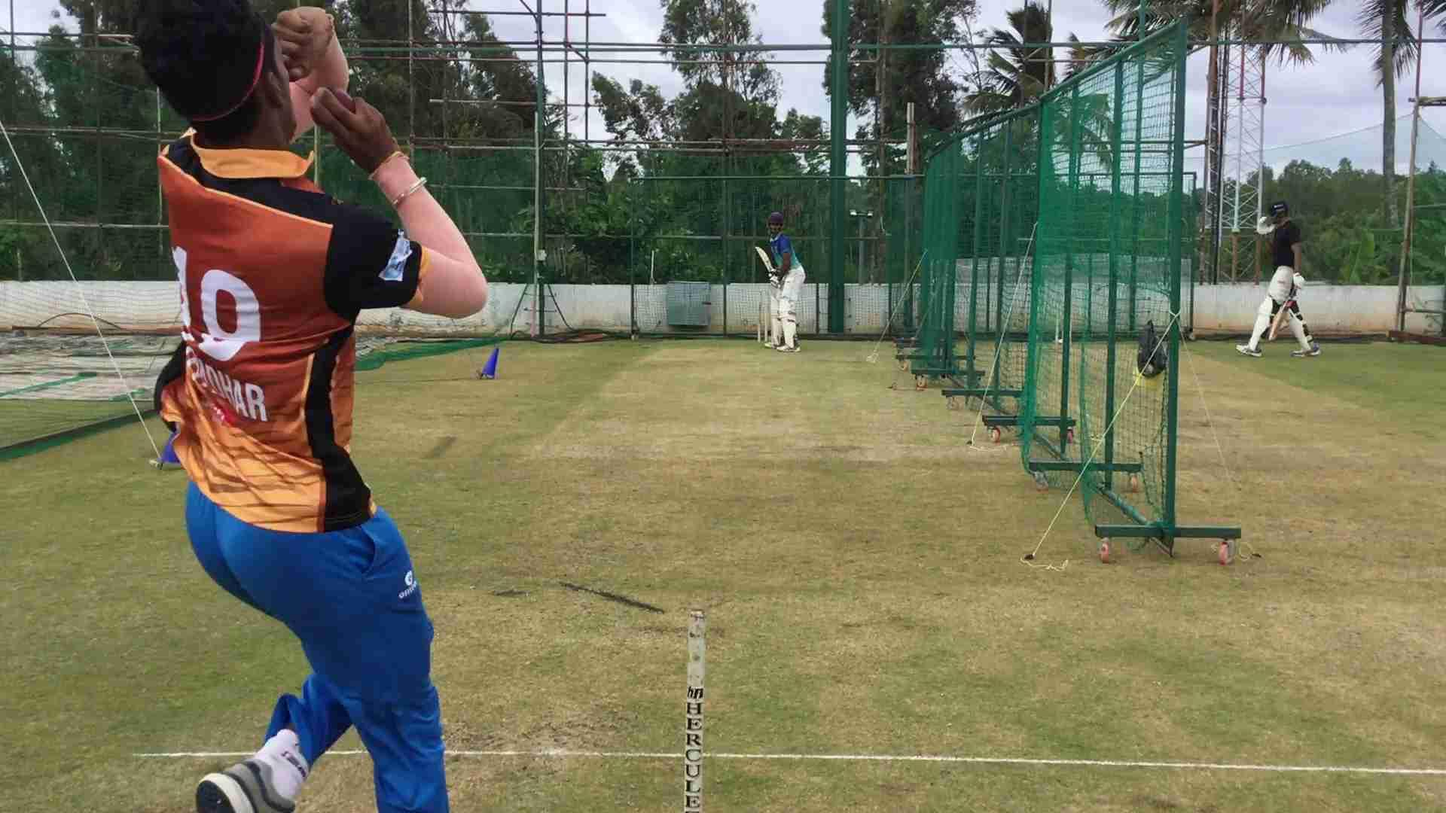batsman: (759, 208, 811, 353)
